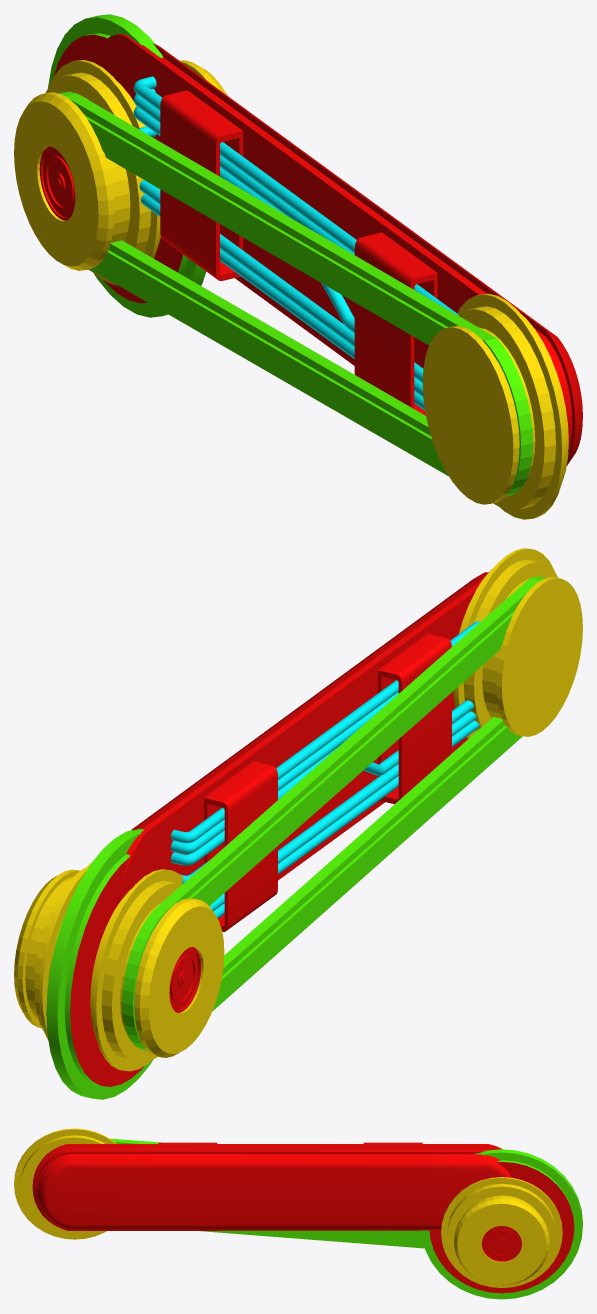
Rendered from Arm01.fbx.
3 renders of one model, top to bottom at view 1: azimuth 30°, elevation 25°; view 2: azimuth 150°, elevation 25°; view 3: azimuth 270°, elevation 25°, orthographic. The views are drawn at different scales.
Parts seen in each view (by area): view 1: Arm01; view 2: Arm01; view 3: Arm01.
Boxes of the visible parts, x1=… form: Arm01: x1=14, y1=14, x2=582, y2=519; Arm01: x1=14, y1=548, x2=582, y2=1099; Arm01: x1=14, y1=1128, x2=582, y2=1299.
Size of the model in its own units: 0.0651 by 0.1266 by 0.4039.
